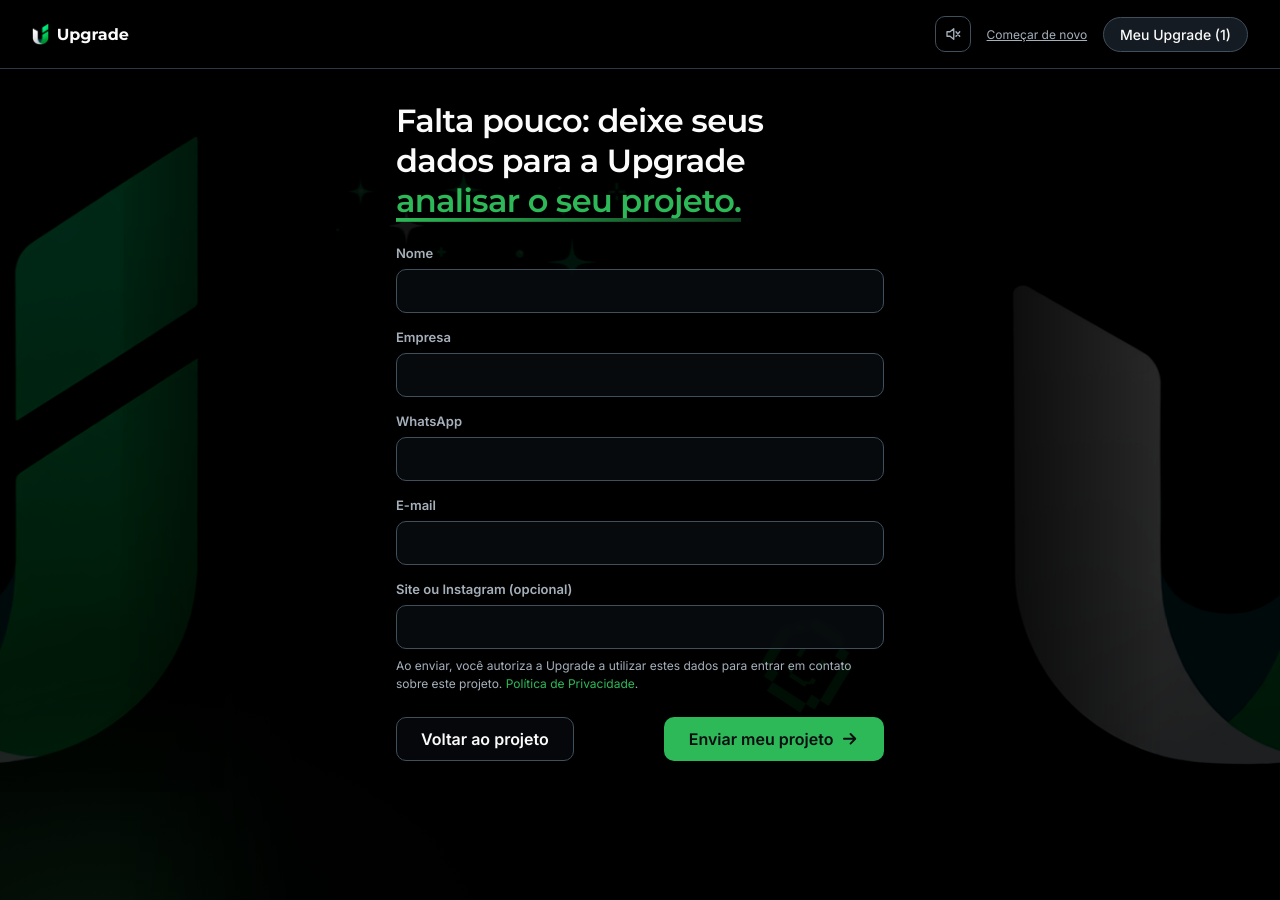
Test case: LeadForm — integração (Etapa 12) › enviar vazio mostra erros próximos aos campos e foca o primeiro campo inválido
Click the button "Enviar meu projeto".
click(774, 739)  # box [664, 717, 884, 761]
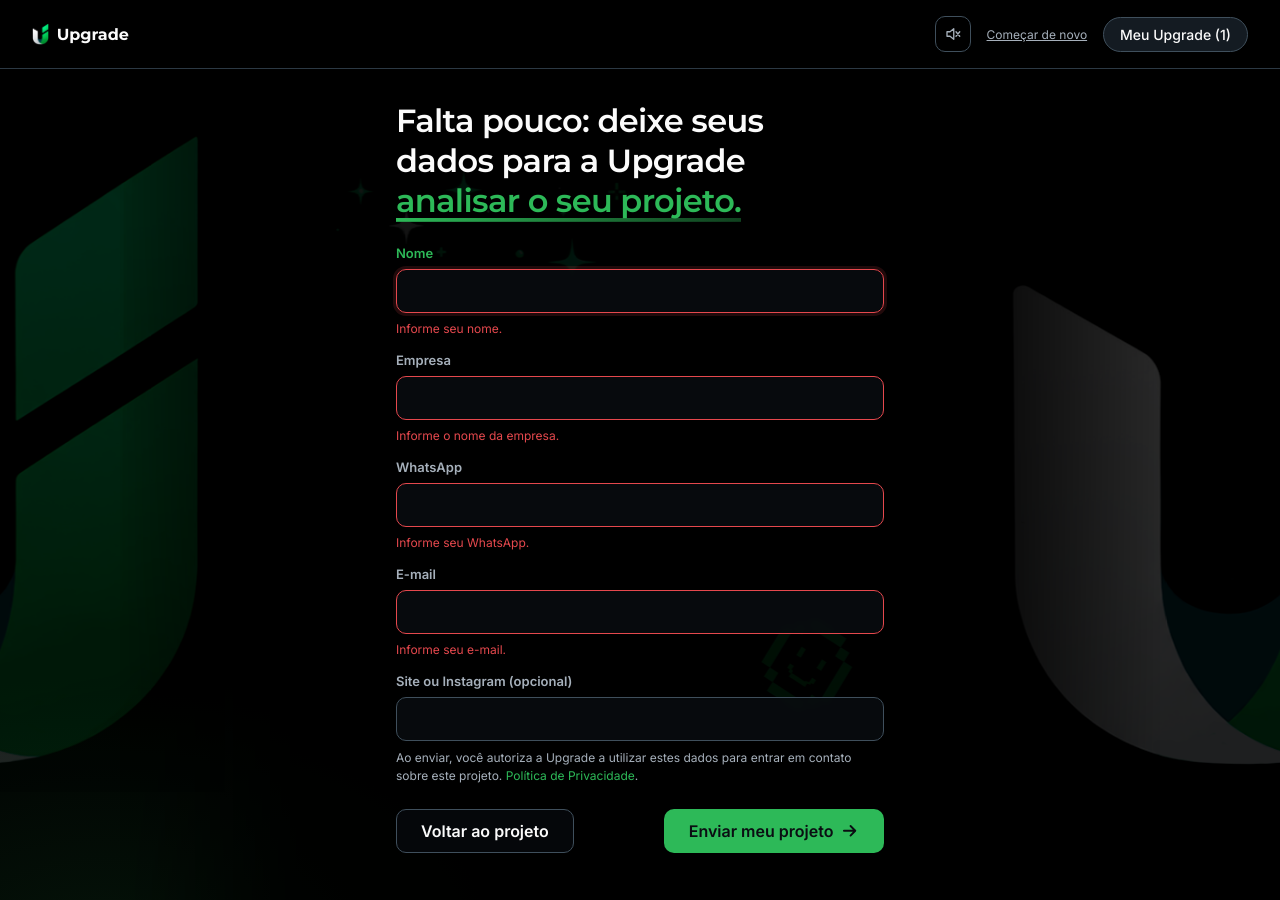
Result: the text "Informe seu nome." is shown at [396, 321, 502, 336]
Result: the text "Informe o nome da empresa." is shown at [396, 428, 559, 443]
Result: the text "Informe seu WhatsApp." is shown at [396, 535, 529, 550]
